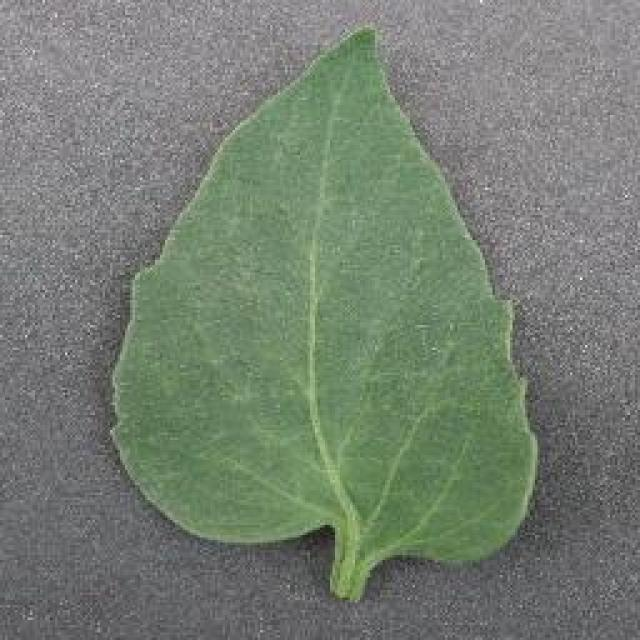Tomato_Healthy: (94, 19, 548, 584)
